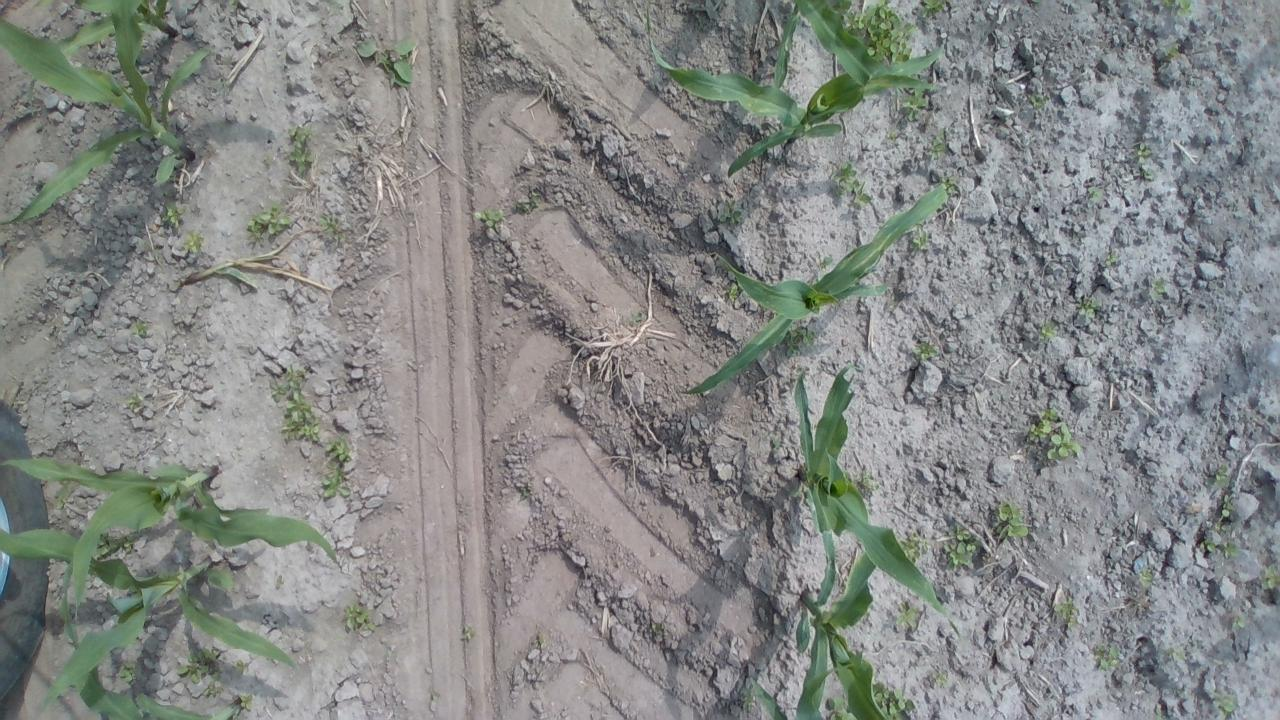Maize: (678, 184, 951, 396), (0, 456, 344, 624), (0, 527, 297, 714), (646, 3, 948, 178), (0, 1, 214, 226), (794, 362, 961, 638), (59, 559, 244, 720), (794, 531, 889, 720), (28, 0, 178, 118), (801, 1, 940, 90), (180, 228, 332, 298), (778, 3, 799, 94), (750, 678, 786, 720)
Weeds: (268, 363, 322, 444), (354, 33, 414, 92), (1029, 403, 1080, 459), (868, 8, 918, 62), (246, 200, 298, 246), (318, 434, 352, 500), (832, 158, 874, 207), (942, 522, 982, 570), (175, 644, 221, 682), (282, 122, 314, 172), (875, 683, 917, 719), (995, 497, 1028, 541), (844, 0, 894, 29), (898, 528, 927, 562), (342, 603, 376, 632), (901, 87, 928, 122), (786, 325, 814, 357), (1208, 688, 1238, 717), (1094, 640, 1122, 670), (1052, 594, 1078, 626), (512, 189, 544, 215), (1202, 463, 1232, 490), (473, 206, 505, 229), (926, 129, 950, 158), (856, 465, 880, 494), (895, 600, 917, 631), (160, 200, 184, 228), (718, 198, 742, 226), (110, 660, 138, 683), (182, 229, 206, 255), (828, 692, 850, 720), (1260, 563, 1280, 592), (1162, 642, 1189, 662), (1078, 293, 1100, 317), (1149, 274, 1167, 302), (318, 210, 339, 234), (814, 250, 832, 278), (54, 482, 72, 510), (914, 340, 939, 360), (920, 0, 946, 19), (741, 682, 756, 713), (909, 228, 928, 252), (928, 670, 952, 688), (1218, 491, 1234, 517), (1037, 320, 1057, 340), (130, 317, 150, 337), (204, 680, 223, 701), (720, 282, 739, 302), (99, 534, 118, 554), (1138, 564, 1154, 587), (1198, 535, 1218, 553), (458, 622, 476, 642), (1088, 185, 1108, 202), (1222, 538, 1238, 559), (518, 482, 536, 500), (1164, 40, 1179, 61), (1136, 142, 1150, 164), (1176, 0, 1194, 17), (128, 390, 142, 410), (629, 311, 646, 327), (119, 534, 134, 552), (239, 693, 254, 711), (941, 173, 955, 192), (1231, 613, 1246, 630), (534, 631, 550, 646), (274, 574, 286, 594), (651, 622, 668, 636), (218, 77, 232, 92), (1101, 251, 1116, 265), (770, 438, 782, 455), (836, 0, 856, 10), (1140, 168, 1154, 182), (1030, 94, 1044, 108), (884, 128, 898, 142), (236, 660, 248, 676), (260, 154, 272, 169), (790, 485, 801, 498), (1211, 520, 1222, 532), (1160, 0, 1174, 8), (1222, 524, 1232, 532), (1030, 0, 1042, 4), (228, 0, 235, 5)
